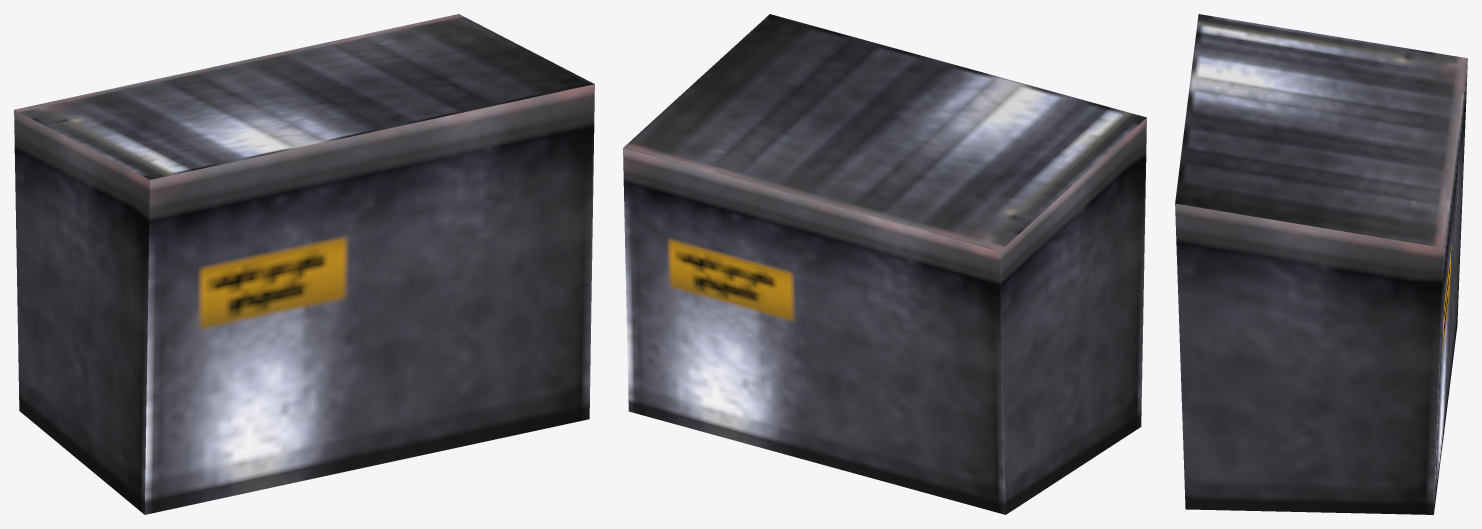
Rendered from dump02.glb.
3 views of the same model, side by side, from view 1: azimuth 30°, elevation 25°; view 2: azimuth 150°, elevation 25°; view 3: azimuth 270°, elevation 25° (orthographic). The views are drawn at different scales.
Parts seen in each view (by area): view 1: dump02; view 2: dump02; view 3: dump02.
Part boxes in pixels (box(x1,y1,x2,y2)): dump02: box(14, 14, 594, 514); dump02: box(623, 14, 1146, 514); dump02: box(1175, 14, 1467, 514).
Size of the model in its own units: 427 by 311 by 270.
1 material, 1 textured.
